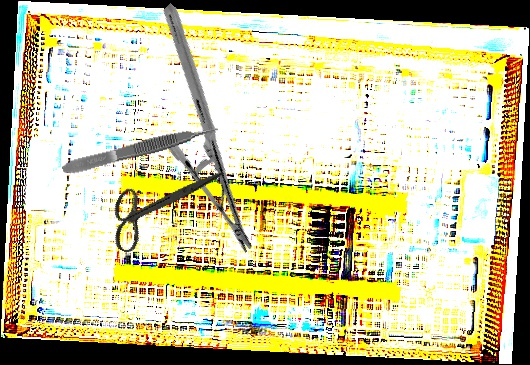Iris Scissors: (97, 134, 224, 276)
Needle Holder: (80, 2, 336, 254)
Tissue Forceps: (60, 121, 221, 178)
